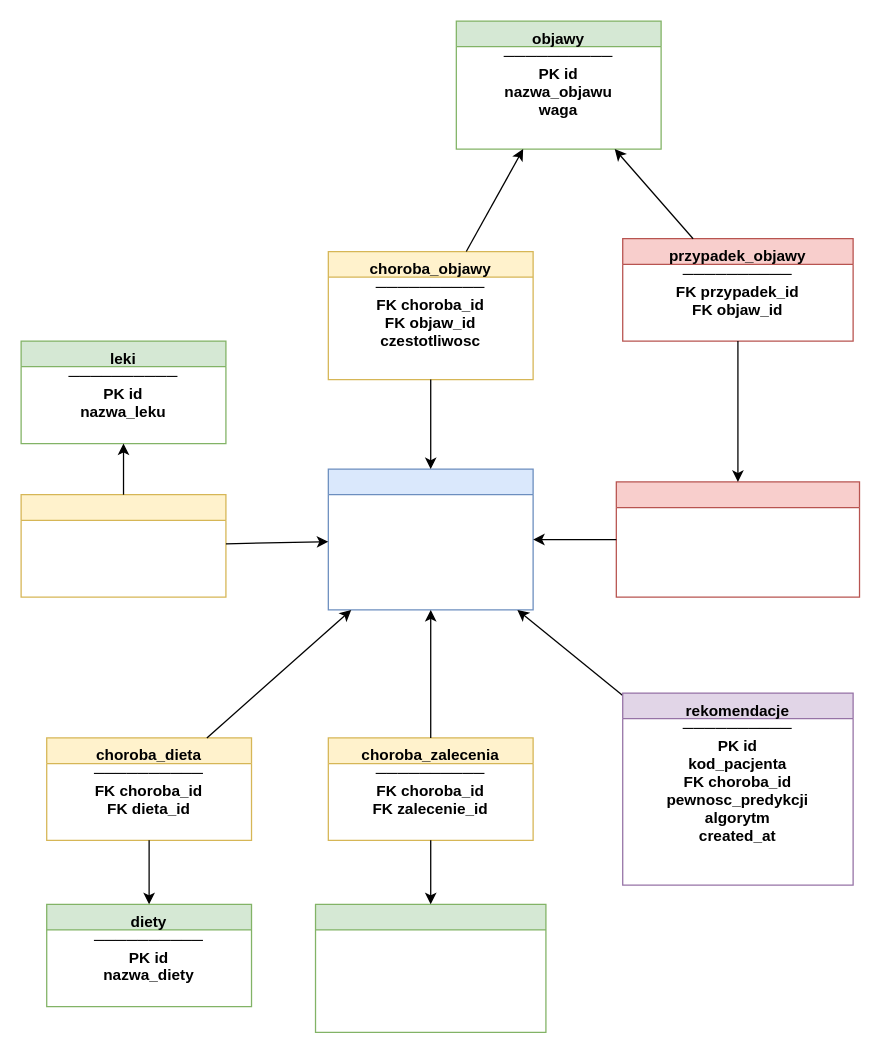
Image size: 881x1053. Some labels were removed from this diagram. Each missing label, with the centre of its shape:
"choroba_leki ────────── FK choroba_id FK lek_id" goes at point (123, 545).
"choroby ────────── PK id nazwa_choroby opis" goes at point (430, 539).
"przypadki_treningowe ────────── PK id FK choroba_id" goes at point (737, 539).
"zalecenia ────────── PK id tresc_zalecenia (precautions + workout)" goes at point (430, 967).
